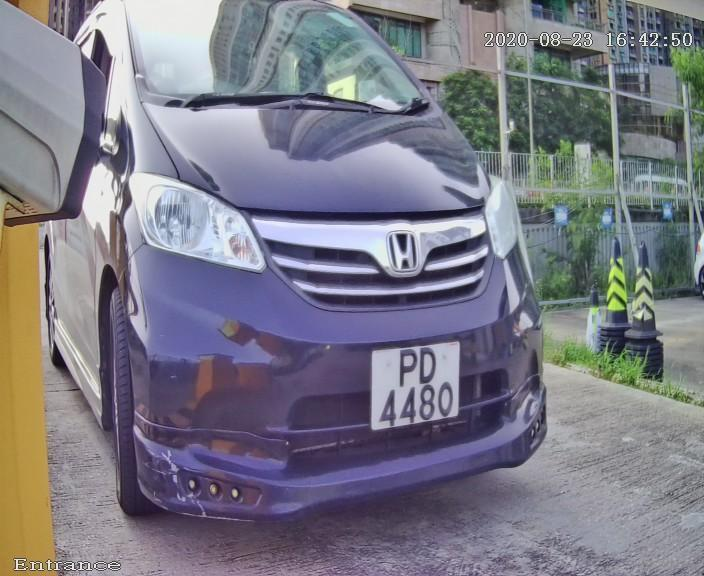Car: (29, 11, 588, 546)
License Plate: (362, 327, 466, 440)
